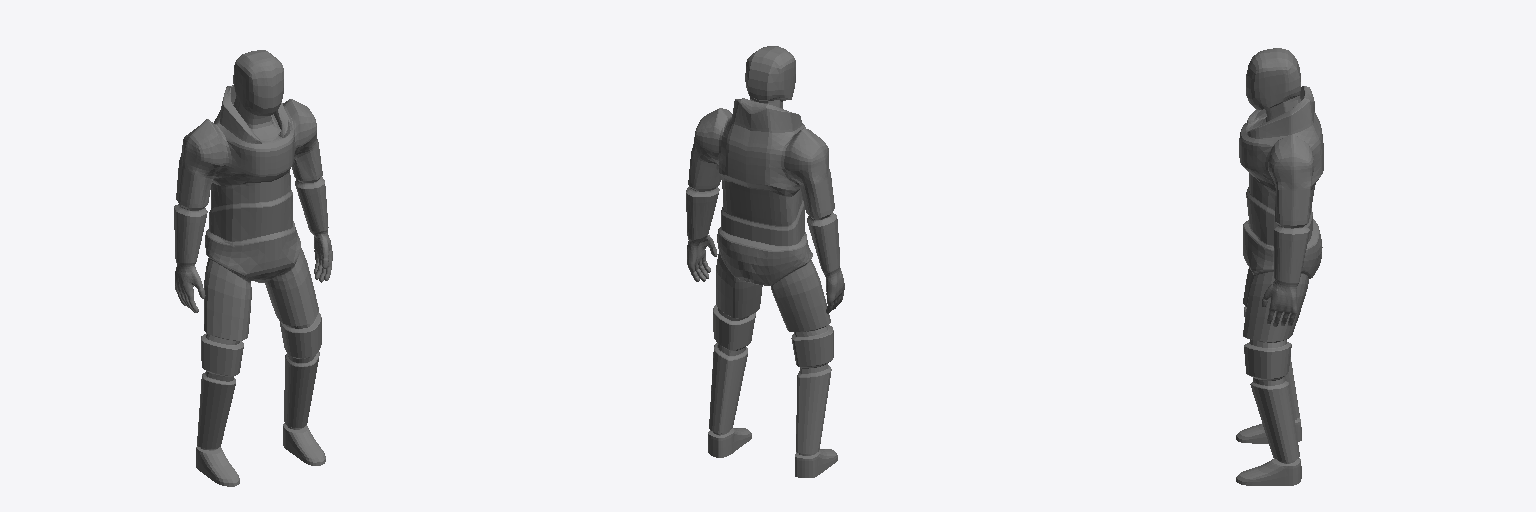
File: xkill_processMesh.obj
3 views of the same model, side by side, from view 1: azimuth 30°, elevation 25°; view 2: azimuth 150°, elevation 25°; view 3: azimuth 270°, elevation 25° (orthographic).
Visible parts, largest first — view 1: Cube.001_Cube.000; view 2: Cube.001_Cube.000; view 3: Cube.001_Cube.000.
Boxes of the visible parts, <box> form: Cube.001_Cube.000: <box>174,50,332,486</box>; Cube.001_Cube.000: <box>686,46,844,477</box>; Cube.001_Cube.000: <box>1236,48,1323,485</box>.
Bounding box in the file's own units: 0.4077 × 1.06 × 0.2091.